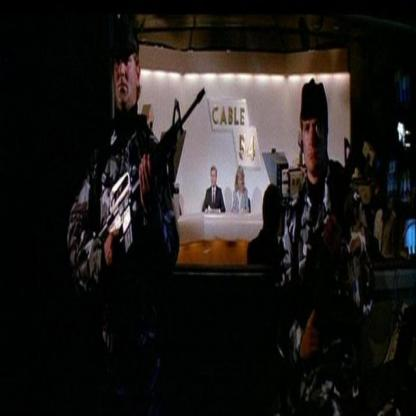face: (303, 110, 326, 170), (114, 50, 137, 104), (211, 172, 217, 186), (238, 172, 243, 187)
